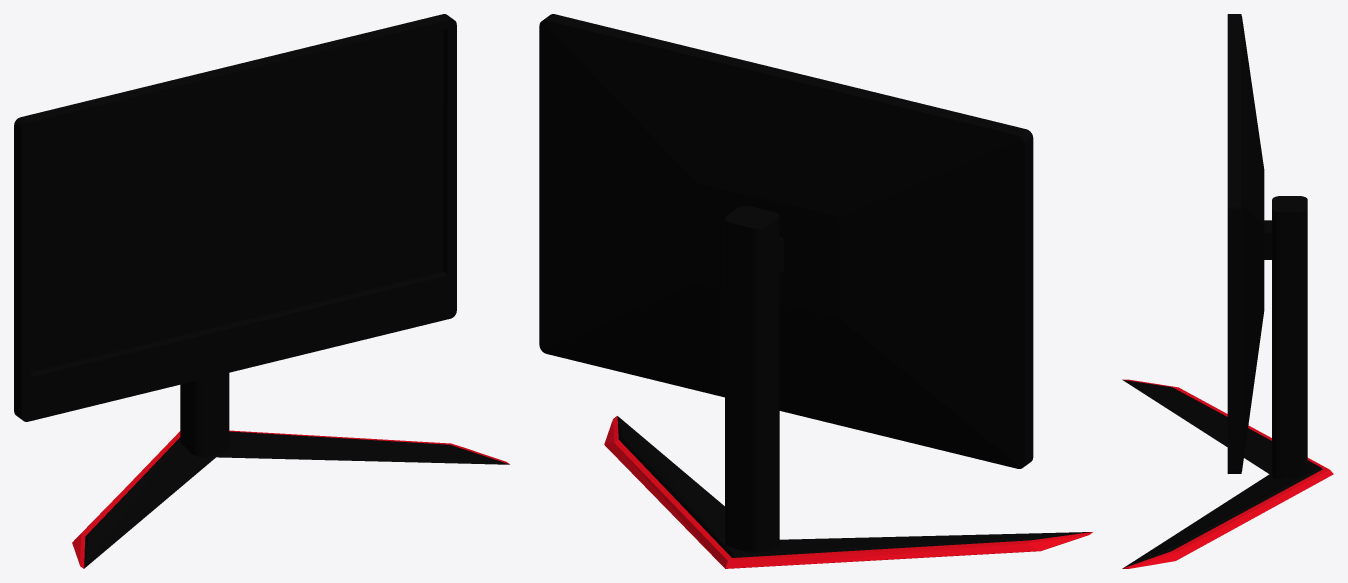
The model's file is monitor-y.glb.
The picture shows the model from 3 angles, left to right: view 1: azimuth 30°, elevation 25°; view 2: azimuth 150°, elevation 25°; view 3: azimuth 270°, elevation 25°; orthographic projection. The views are drawn at different scales.
Parts seen in each view (by area): view 1: Monitor; view 2: Monitor; view 3: Monitor.
Part boxes in pixels (x1,y1,x2,y2): Monitor: [14, 14, 509, 568]; Monitor: [539, 14, 1092, 568]; Monitor: [1122, 14, 1333, 568].
Bounding box in the file's own units: 1.67 × 1.48 × 0.7775.
